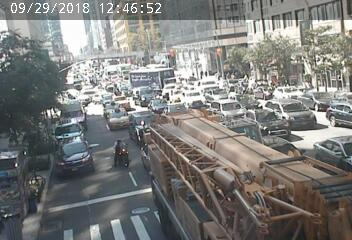car: (174, 127, 278, 204), (278, 98, 316, 119), (133, 68, 173, 86), (56, 145, 92, 163), (63, 104, 92, 120), (130, 112, 158, 127), (256, 113, 279, 130), (108, 111, 129, 124), (57, 127, 80, 138), (324, 140, 340, 154), (152, 99, 170, 109), (185, 90, 203, 100), (209, 86, 227, 96), (218, 102, 238, 110), (334, 109, 348, 120), (310, 94, 326, 103), (140, 88, 152, 98), (114, 96, 127, 103), (278, 88, 293, 94)
